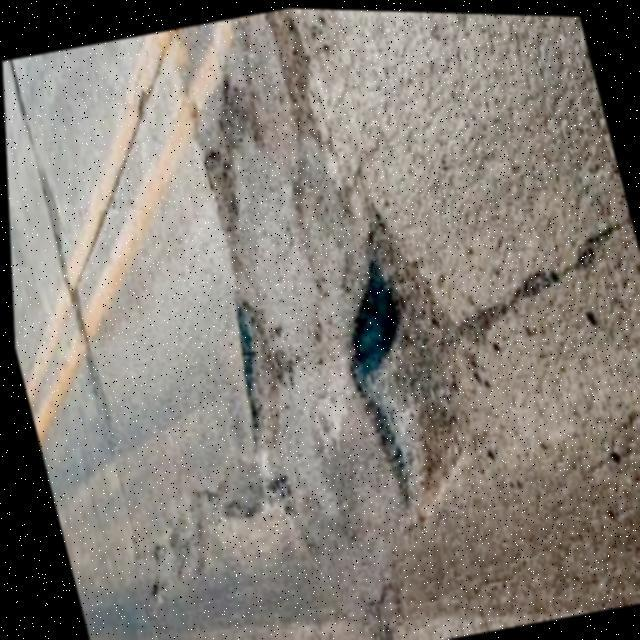pothole: (308, 225, 492, 527), (198, 280, 307, 478), (174, 56, 288, 244)
